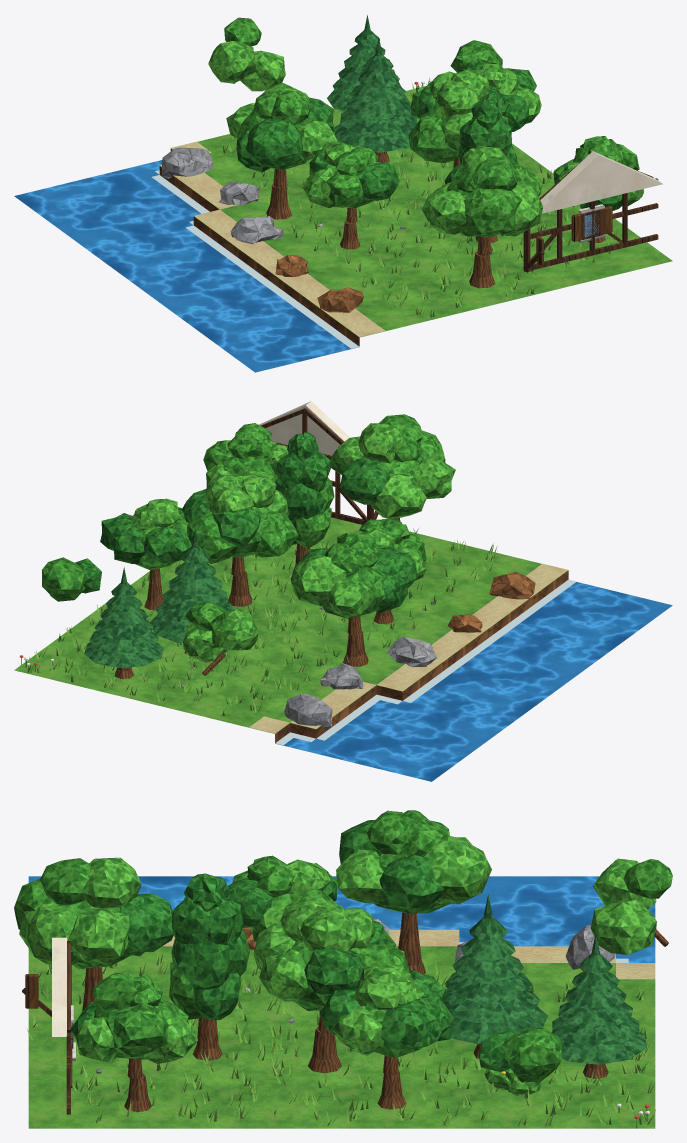
File: chunk_0_1.glb
3 renders of one model, top to bottom at view 1: azimuth 30°, elevation 25°; view 2: azimuth 150°, elevation 25°; view 3: azimuth 270°, elevation 25°, orthographic. The views are drawn at different scales.
Parts seen in each view (by area): view 1: chunk_0_1; view 2: chunk_0_1; view 3: chunk_0_1.
Part boxes in pixels (left/top/right/bottom): chunk_0_1: left=14, top=15, right=672, bottom=372; chunk_0_1: left=14, top=401, right=672, bottom=781; chunk_0_1: left=14, top=810, right=672, bottom=1128.
Bounding box in the file's own units: 16.72 × 5.57 × 16.83.
Materials: 24 (17 with a texture image).
